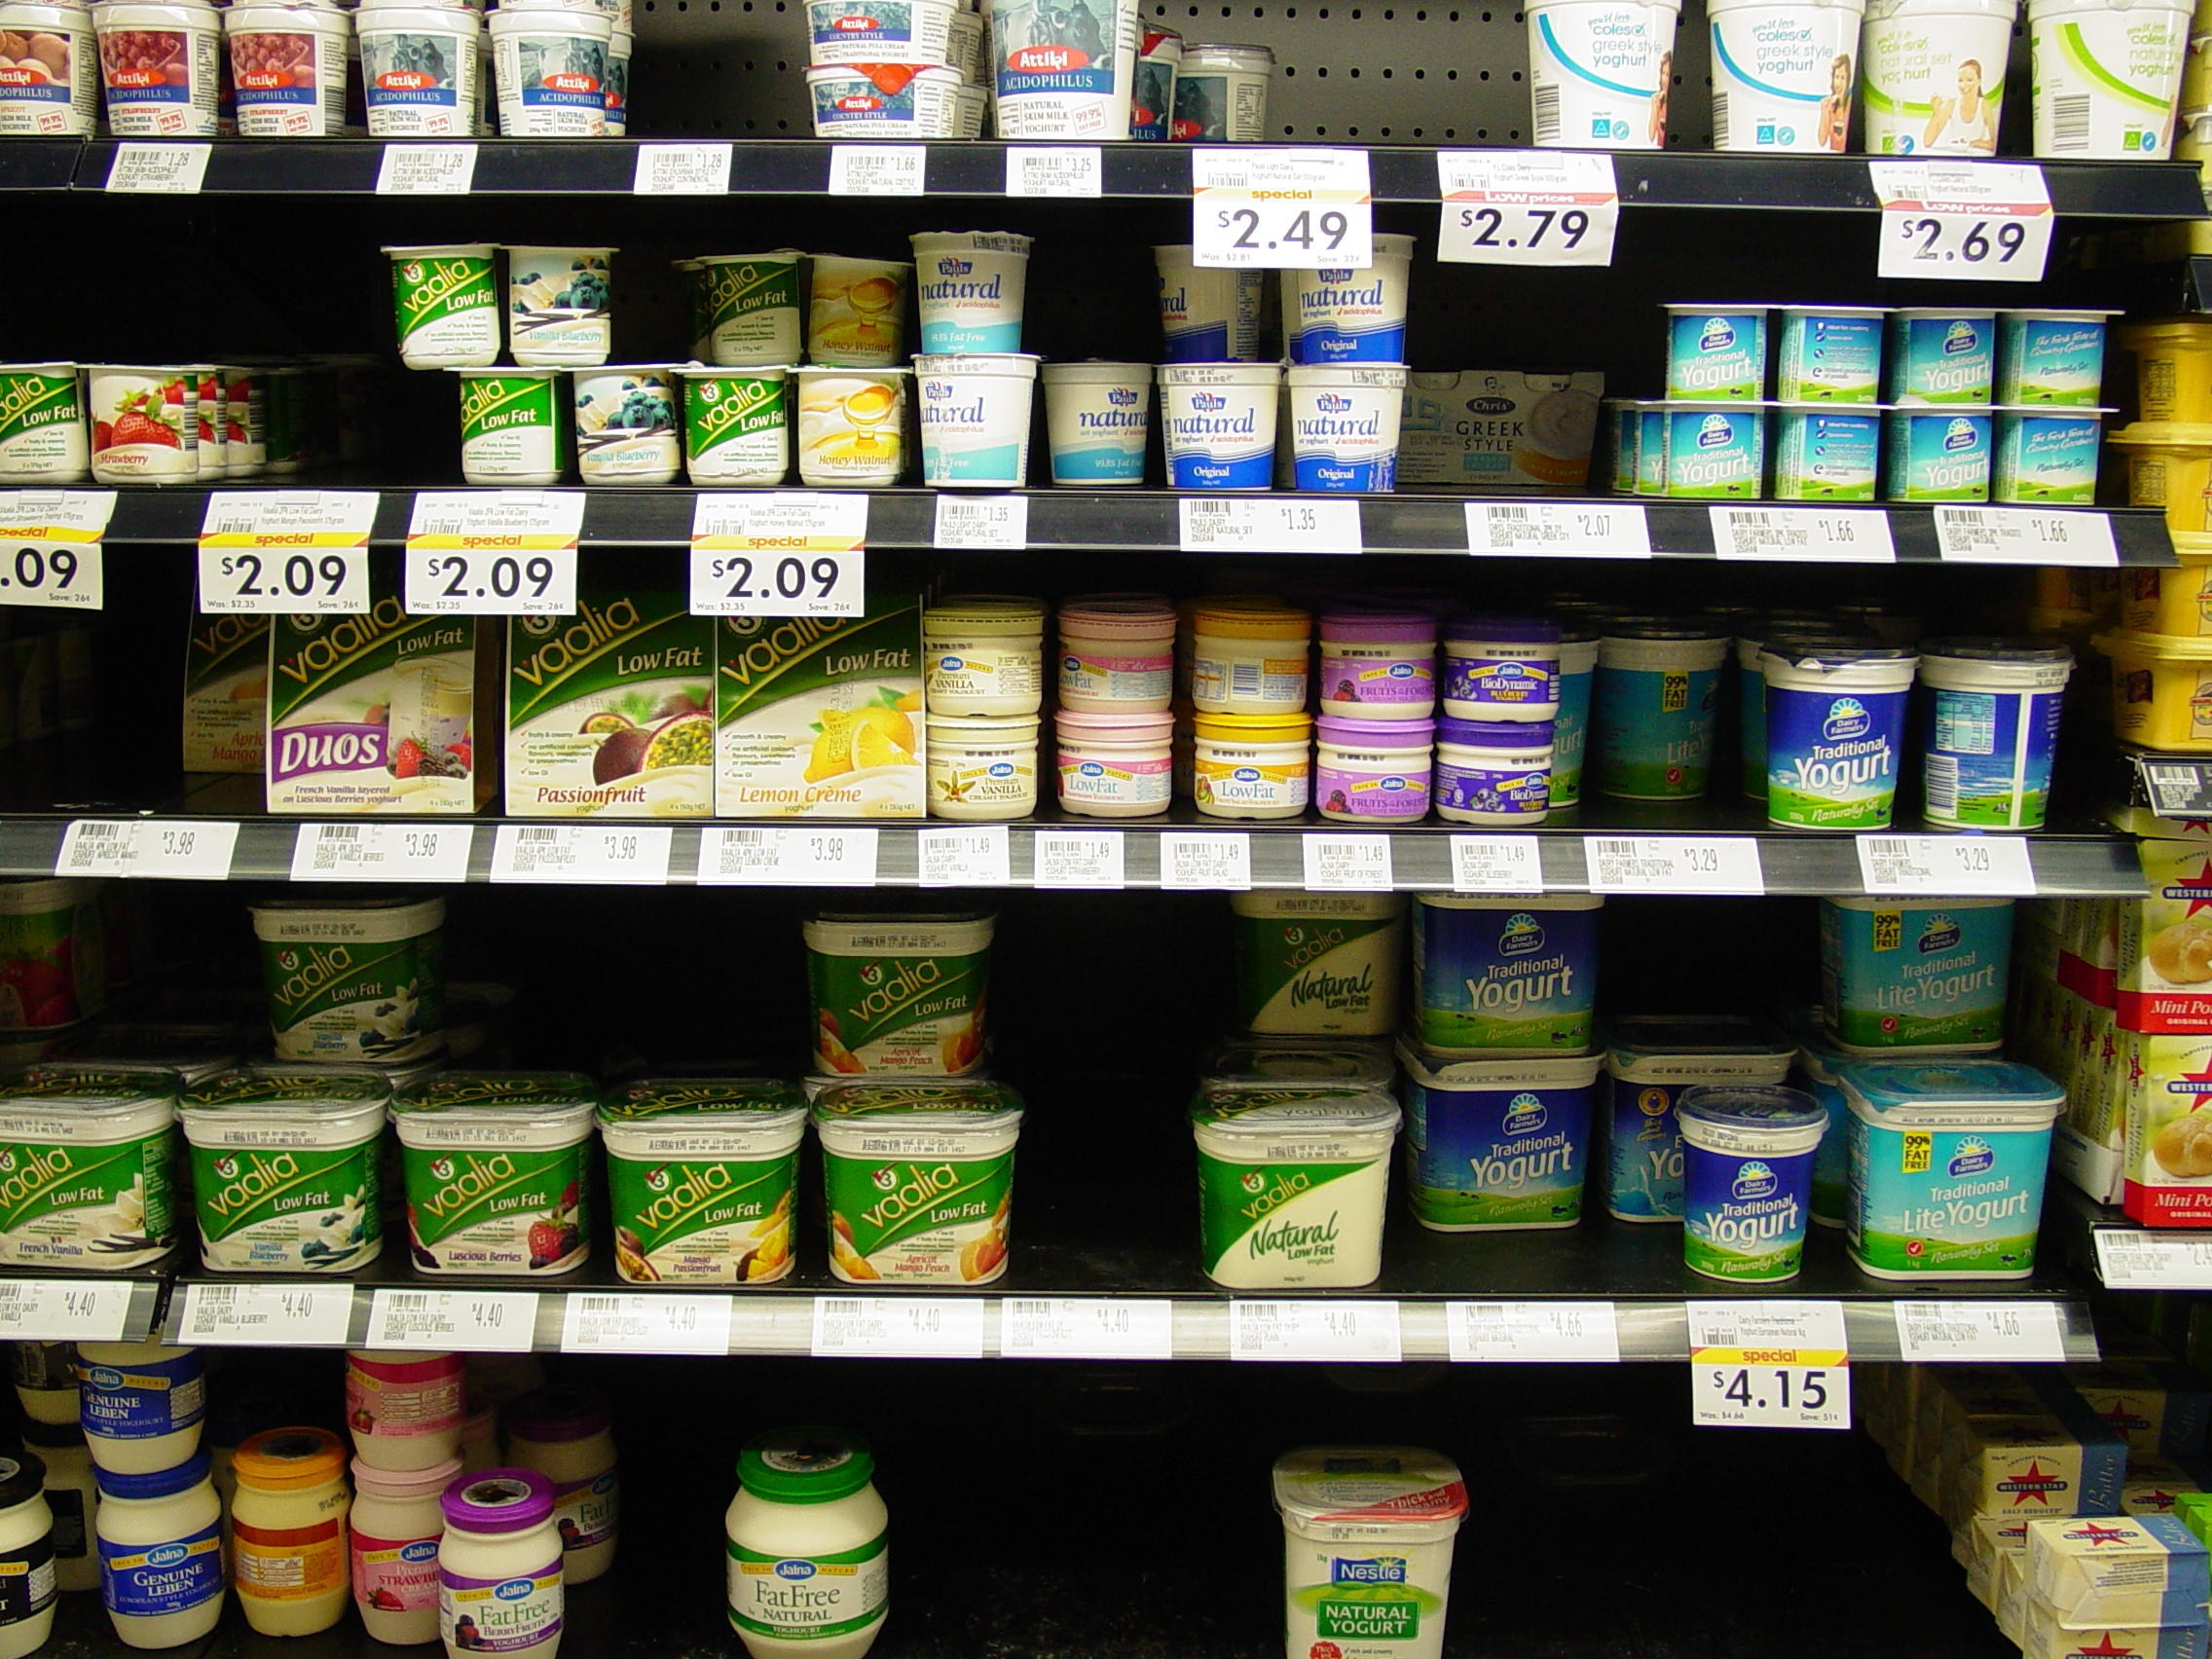Out-of-stock: (1028, 924, 1195, 1284), (21, 551, 181, 814)
